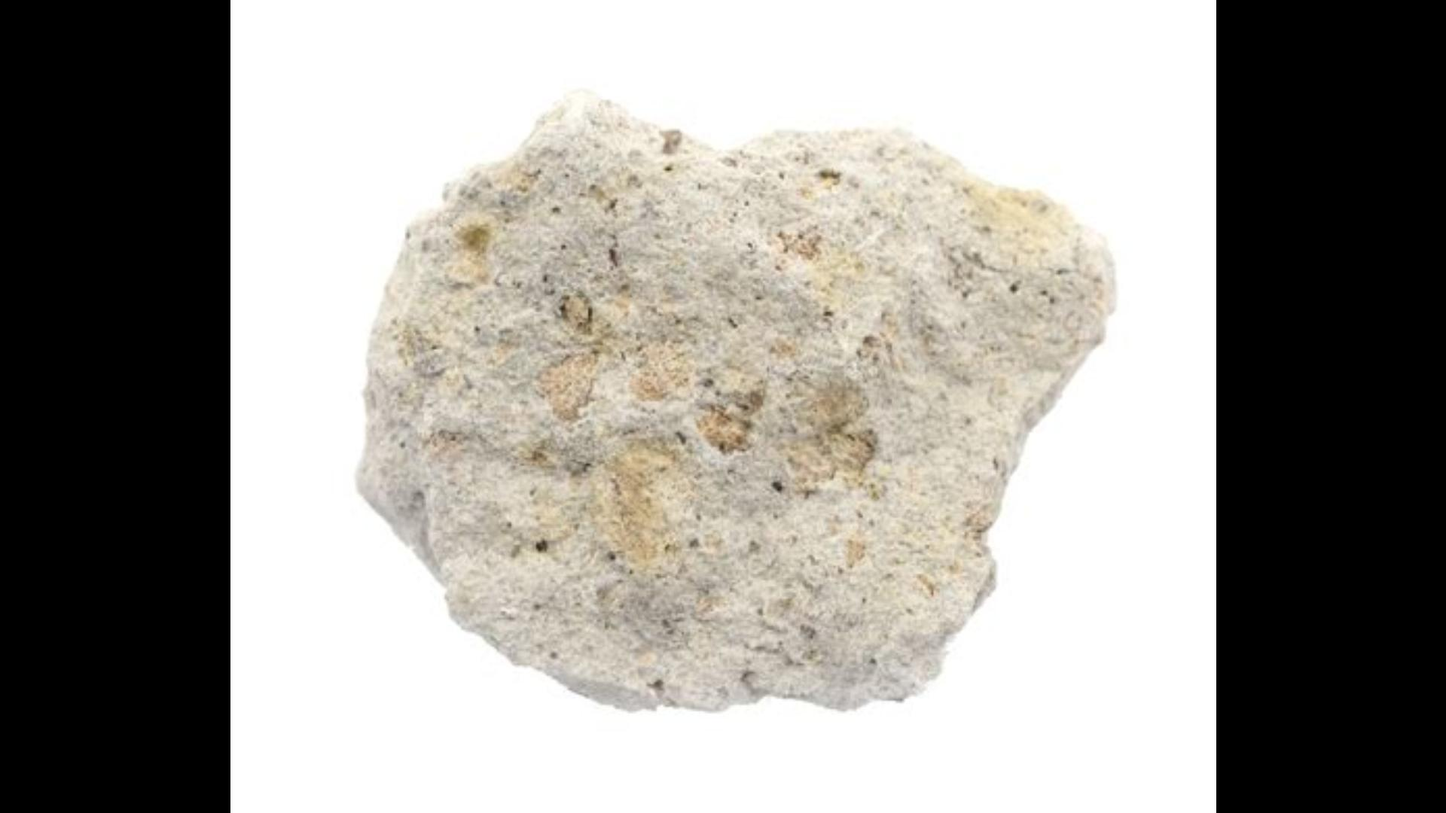rock: (359, 96, 1101, 707)
